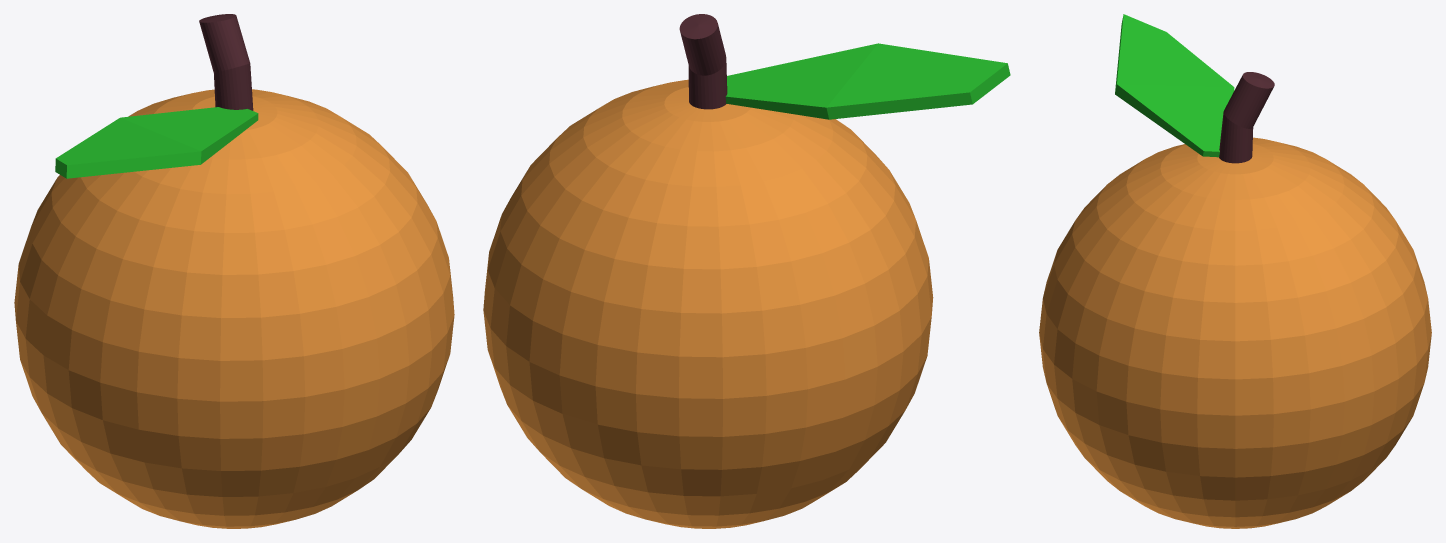
The model's file is oranges.glb.
The picture shows the model from 3 angles, left to right: view 1: azimuth 30°, elevation 25°; view 2: azimuth 150°, elevation 25°; view 3: azimuth 270°, elevation 25°; orthographic projection. The views are drawn at different scales.
Visible parts, largest first — view 1: Sphere.001; view 2: Sphere.001; view 3: Sphere.001.
Part boxes in pixels (left/top/right/bottom): Sphere.001: left=14, top=14, right=454, bottom=528; Sphere.001: left=483, top=14, right=1010, bottom=528; Sphere.001: left=1039, top=14, right=1431, bottom=528.
Size of the model in its own units: 0.1605 by 0.1766 by 0.145.
